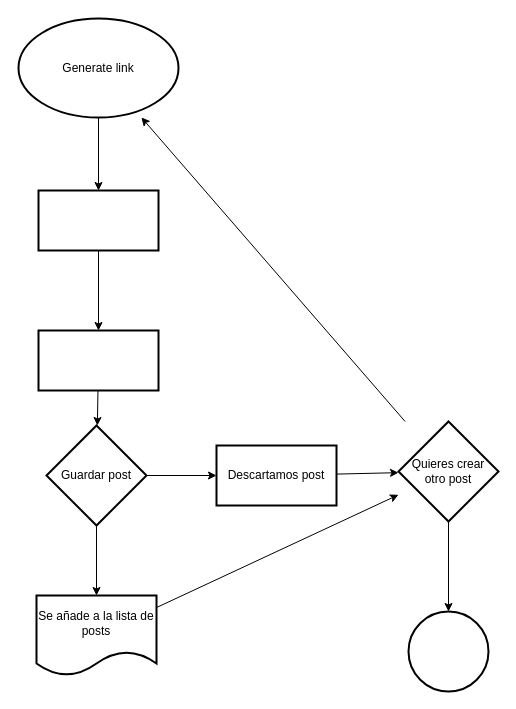
Image size: 516x709. Some labels were removed from this diagram. The centre of each missing label's shape, as x and y in pixels:
Añade los datos del link: the point at 98,360
Copia template: the point at 98,220
Fin: the point at 448,651
